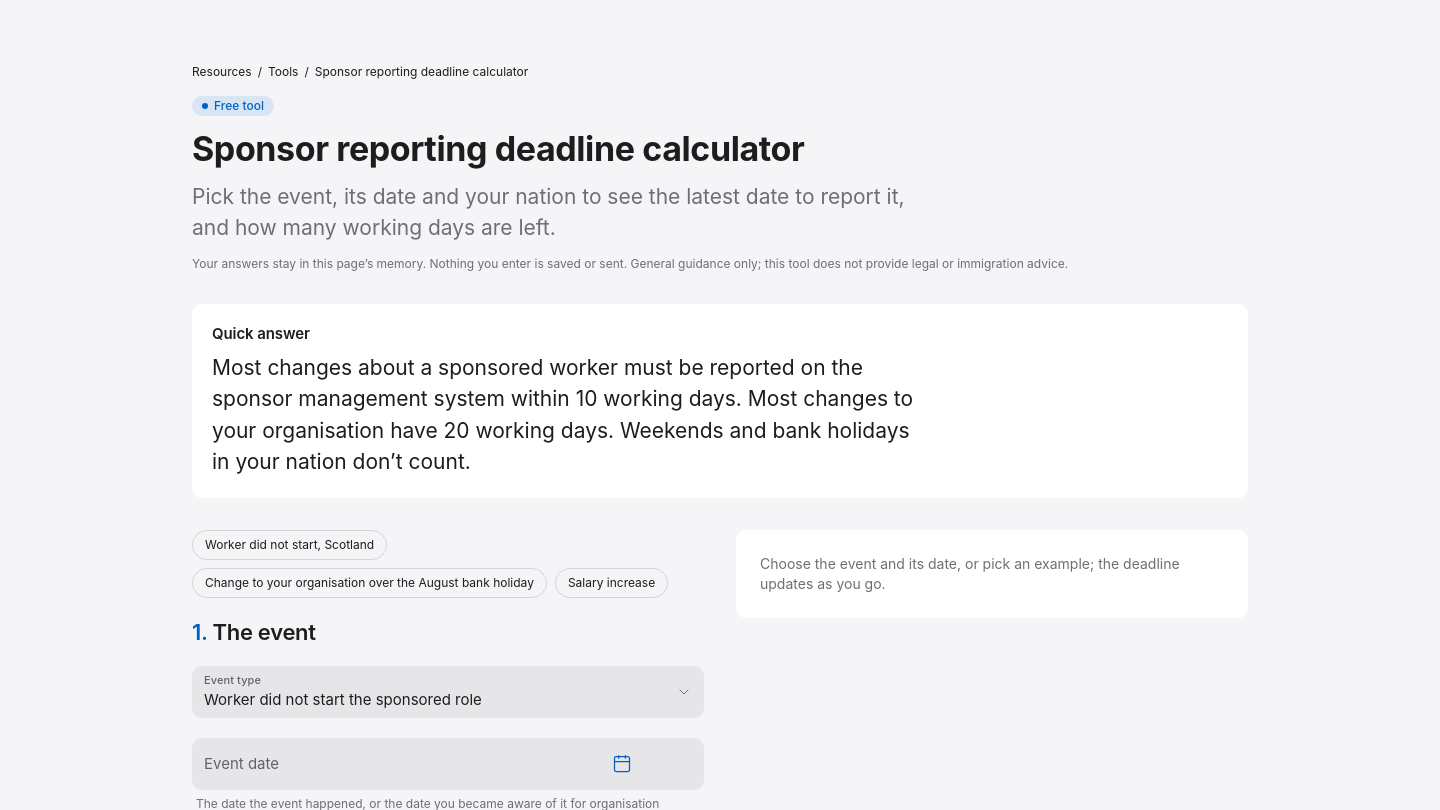
it: sponsor reporting deadline calculator page › shows both sources and calculates locally
Step 1. Select "Change to your organisation (date you became aware)" in the dropdown labelled "Event type" → [448, 692], box left=192, top=666, right=704, bottom=718
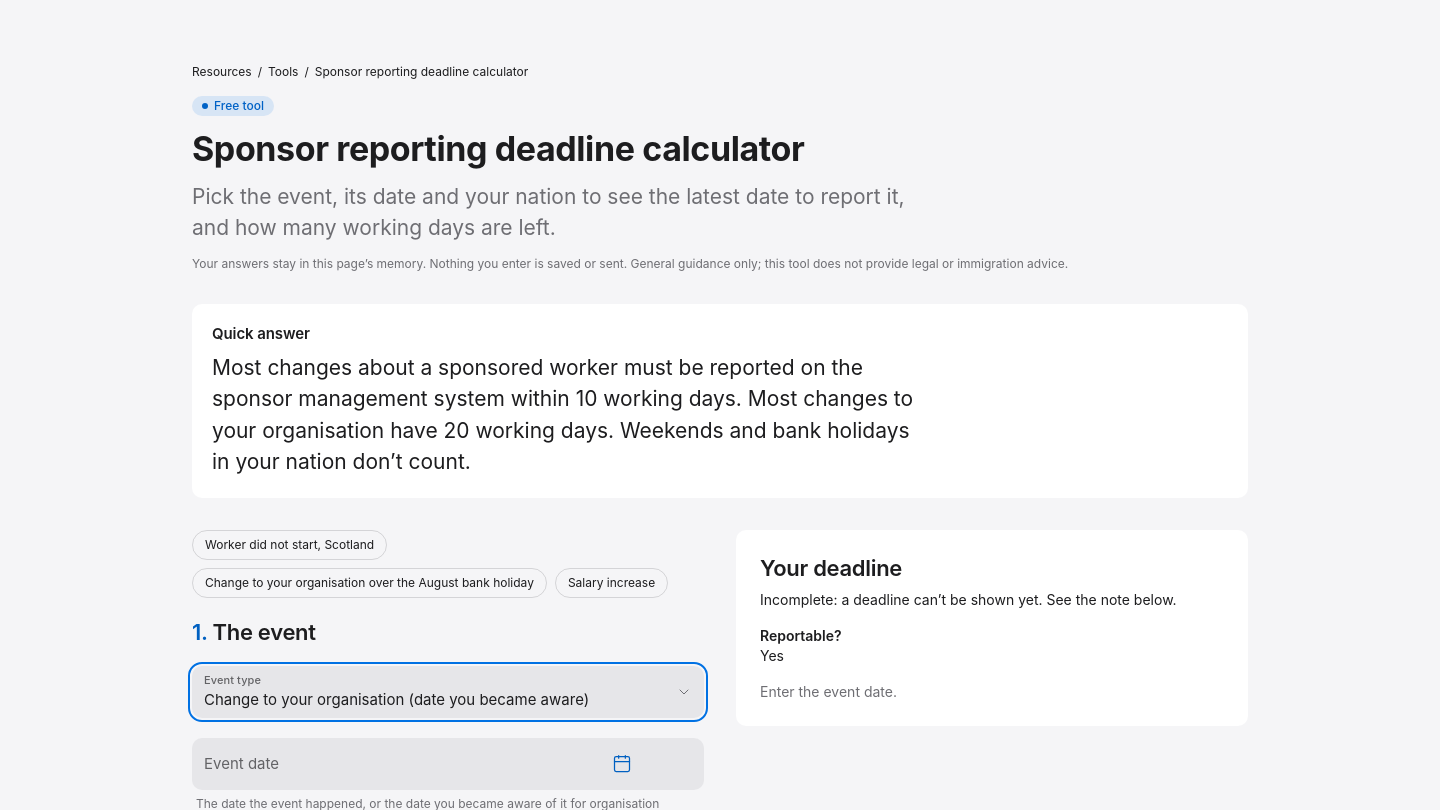
Expected: the element named "Deadline result" shows "Incomplete", left=760, top=591, right=1177, bottom=608
Step 2. Type "2026-08-28" into the field labelled "Event date" → [398, 764], box left=204, top=738, right=592, bottom=790
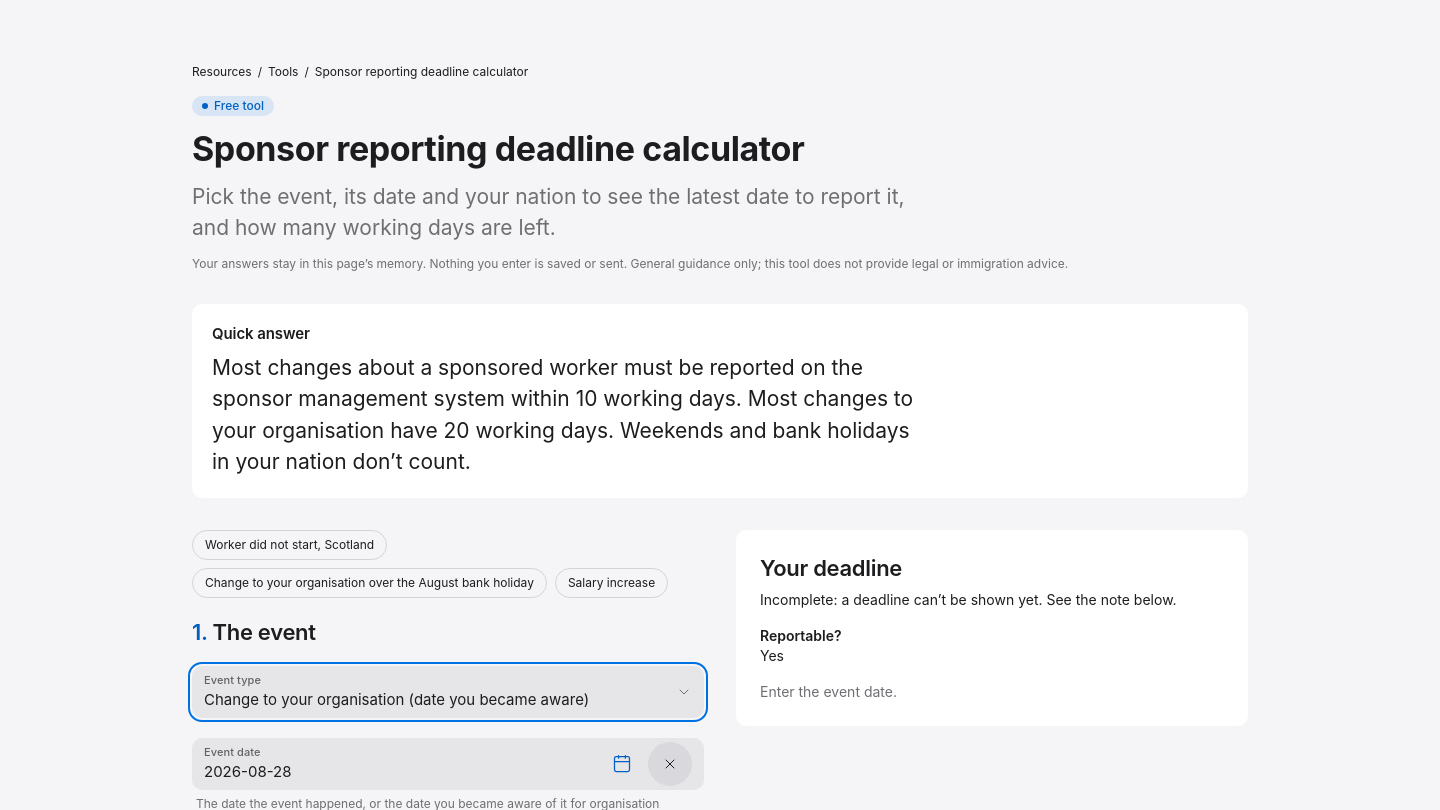
Step 3. Leave the field labelled "Event date", box left=204, top=738, right=592, bottom=790
(page scrolled)
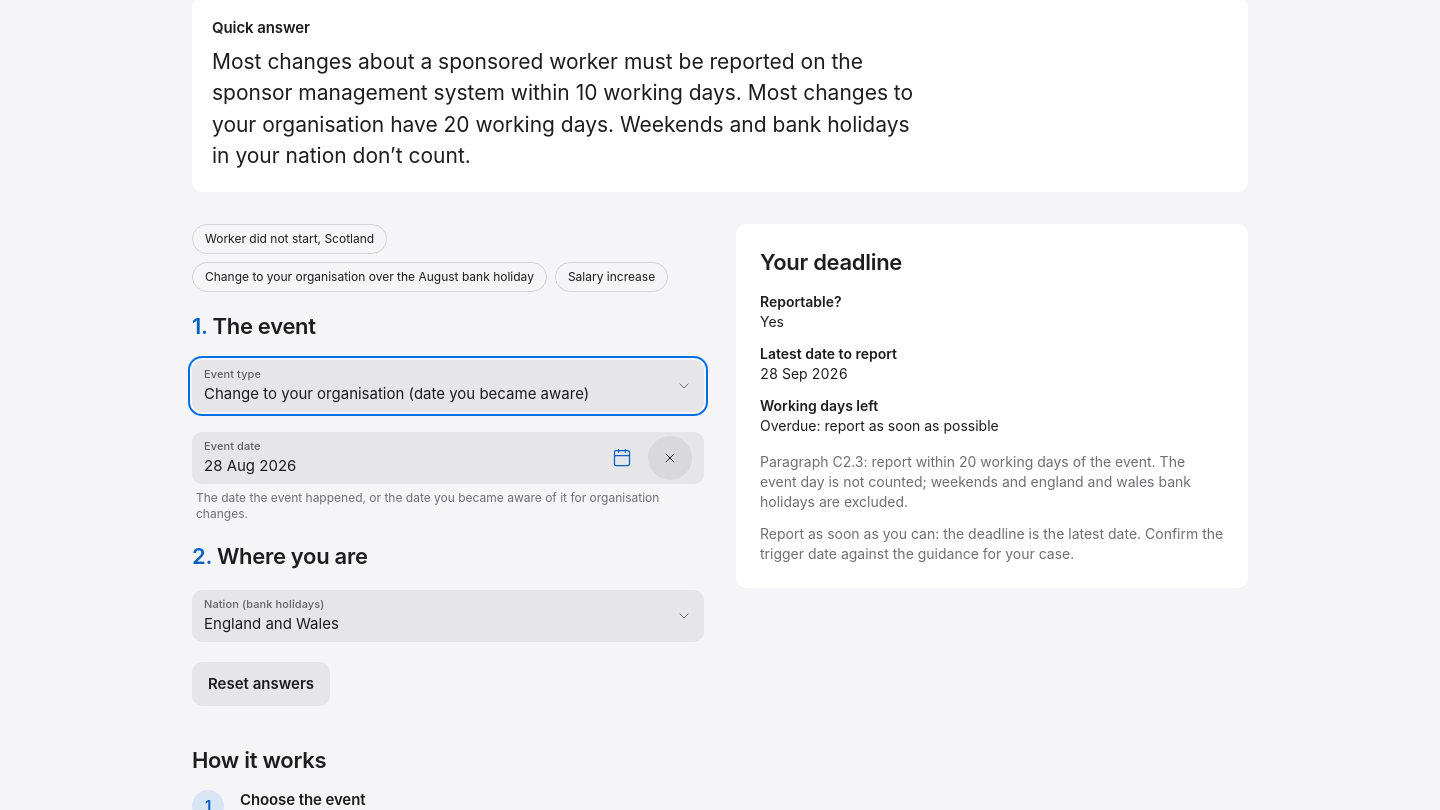
Expected: the element named "Deadline result" shows "28 Sep 2026", left=760, top=365, right=848, bottom=382
Expected: the element named "Deadline result" no longer shows "Incomplete", left=736, top=224, right=1248, bottom=588
